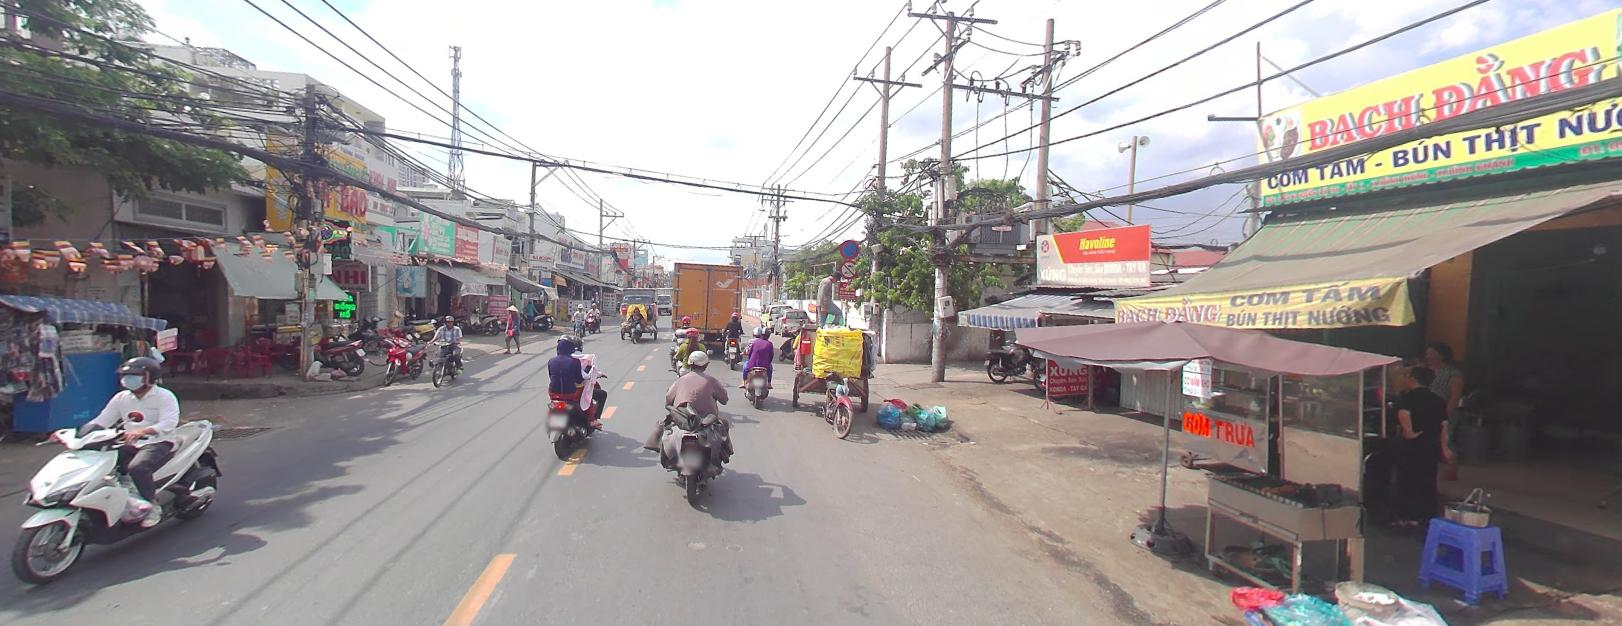Cam con lai: (838, 258, 858, 276), (839, 258, 859, 276), (839, 258, 857, 276)
Cam dung va do: (839, 237, 858, 257), (839, 238, 858, 257), (840, 238, 859, 256)
